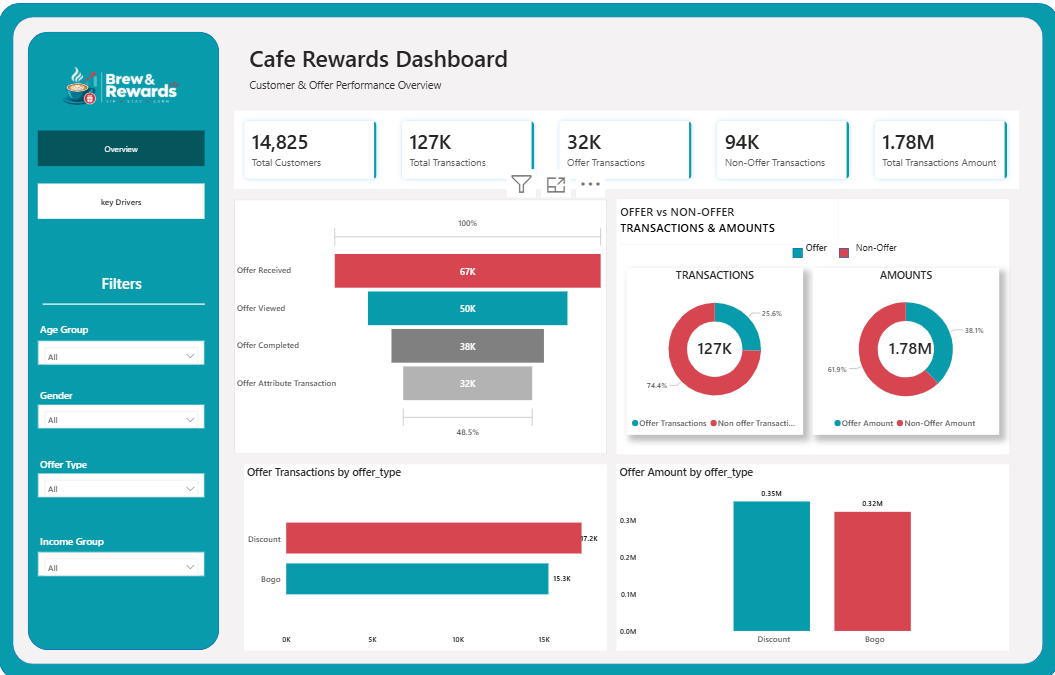

What the dashboard file says about the page in this screenshot:
{"tool":"powerbi","page":{"name":"Overview","canvas":[1800,1200],"ordinal":0},"visuals":[{"type":"shape","box":[48,48,1728,1104],"z":0},{"type":"shape","box":[72,72,1680,1056],"z":1000},{"type":"barChart","title":"Offer  Transactions by offer_type","fields":{"Category":["events_final.offer_type"],"Y":["Table.Offer Attribute Transaction"]},"box":[448,800,592,304],"z":2000},{"type":"cardVisual","fields":{"Data":["customers.consumers","Table.Total Transactions","Table.Offer Attribute Transaction","Table.Non offer transaction","Table.Amount from Transactions"]},"box":[432,224,1280,128],"z":3000},{"type":"funnel","fields":{"Y":["Table.Offer Received","Table.Offer Viewed","Table.Offer Completed","Table.Offer Attribute Transaction"]},"box":[432,368,608,416],"z":4000},{"type":"slicer","fields":{"Values":["customers.Age Bands"]},"box":[128,608,240,64],"z":5000},{"type":"shape","box":[1056,368,640,416],"z":6000},{"type":"donutChart","title":"TRANSACTIONS","fields":{"Y":["Table.Offer Attribute Transaction","Table.Non offer transaction"]},"box":[1072,480,288,272],"z":7000},{"type":"shape","box":[96,96,312,1008],"z":8000},{"type":"donutChart","title":"AMOUNTS","fields":{"Y":["Table.Amount from transaction offer","Table.Amount from transaction without offer"]},"box":[1376,480,304,272],"z":9000},{"type":"slicer","fields":{"Values":["customers.Age Group"]},"box":[112,600,272,40],"z":10000},{"type":"slicer","fields":{"Values":["customers.gender"]},"box":[112,704,272,40],"z":11000},{"type":"slicer","fields":{"Values":["offers.offer_type"]},"box":[112,816,272,40],"z":12000},{"type":"cardVisual","fields":{"Data":["Table.DASHBOARD TITLE"]},"box":[432,96,512,112],"z":13000},{"type":"slicer","fields":{"Values":["customers.Income Band"]},"box":[112,944,272,40],"z":14000},{"type":"cardVisual","fields":{"Data":["Table.Heading"]},"box":[1056,352,368,96],"z":15000},{"type":"cardVisual","fields":{"Data":["Table.Total Transactions"]},"box":[1168,576,96,64],"z":16000},{"type":"cardVisual","fields":{"Data":["Table.Amount from Transactions"]},"box":[1488,576,96,64],"z":17000},{"type":"textbox","box":[1360,432,48,32],"z":18000},{"type":"shape","box":[1344,448,16,16],"z":19000},{"type":"textbox","box":[1440,432,80,32],"z":20000},{"type":"shape","box":[1418.7,448,16,16],"z":21000},{"type":"columnChart","title":"Offer Amount by offer_type","fields":{"Y":["Table.Amount from transaction offer"],"Category":["offers.offer_type"]},"box":[1056,800,640,304],"z":22000},{"type":"pageNavigator","box":[112,256,272,144],"z":23000},{"type":"cardVisual","fields":{"Data":["Table.Heading 2"]},"box":[144,480,208,48],"z":24000},{"type":"shape","box":[120,528,264,24],"z":25000},{"type":"cardVisual","fields":{"Data":["Table.Slicer 1"]},"box":[104,560,168,32],"z":26000},{"type":"cardVisual","fields":{"Data":["Table.Slicer 2"]},"box":[104,672,88,24],"z":27000},{"type":"cardVisual","fields":{"Data":["Table.Slicer 3"]},"box":[104,784,216,24],"z":28000},{"type":"cardVisual","fields":{"Data":["Table.Slicer 4"]},"box":[104,912,128,24],"z":29000},{"type":"image","box":[112,144,272,80],"z":30000}]}

Visuals, with their boxes on the page's 1800x1200 design canvas (x1, y1, x2, y2). These are canvas units, not pixel positions in the 1055x675 screenshot, which may show the page scaled, cropped or inside an application window:
shape: bbox=[48, 48, 1776, 1152]
shape: bbox=[72, 72, 1752, 1128]
"Offer  Transactions by offer_type" barChart: bbox=[448, 800, 1040, 1104]
cardVisual - customers.consumers x Table.Total Transactions: bbox=[432, 224, 1712, 352]
funnel - Table.Offer Received x Table.Offer Viewed: bbox=[432, 368, 1040, 784]
slicer - customers.Age Bands: bbox=[128, 608, 368, 672]
shape: bbox=[1056, 368, 1696, 784]
"TRANSACTIONS" donutChart: bbox=[1072, 480, 1360, 752]
shape: bbox=[96, 96, 408, 1104]
"AMOUNTS" donutChart: bbox=[1376, 480, 1680, 752]
slicer - customers.Age Group: bbox=[112, 600, 384, 640]
slicer - customers.gender: bbox=[112, 704, 384, 744]
slicer - offers.offer_type: bbox=[112, 816, 384, 856]
cardVisual - Table.DASHBOARD TITLE: bbox=[432, 96, 944, 208]
slicer - customers.Income Band: bbox=[112, 944, 384, 984]
cardVisual - Table.Heading: bbox=[1056, 352, 1424, 448]
cardVisual - Table.Total Transactions: bbox=[1168, 576, 1264, 640]
cardVisual - Table.Amount from Transactions: bbox=[1488, 576, 1584, 640]
textbox: bbox=[1360, 432, 1408, 464]
shape: bbox=[1344, 448, 1360, 464]
textbox: bbox=[1440, 432, 1520, 464]
shape: bbox=[1419, 448, 1435, 464]
"Offer Amount by offer_type" columnChart: bbox=[1056, 800, 1696, 1104]
pageNavigator: bbox=[112, 256, 384, 400]
cardVisual - Table.Heading 2: bbox=[144, 480, 352, 528]
shape: bbox=[120, 528, 384, 552]
cardVisual - Table.Slicer 1: bbox=[104, 560, 272, 592]
cardVisual - Table.Slicer 2: bbox=[104, 672, 192, 696]
cardVisual - Table.Slicer 3: bbox=[104, 784, 320, 808]
cardVisual - Table.Slicer 4: bbox=[104, 912, 232, 936]
image: bbox=[112, 144, 384, 224]
